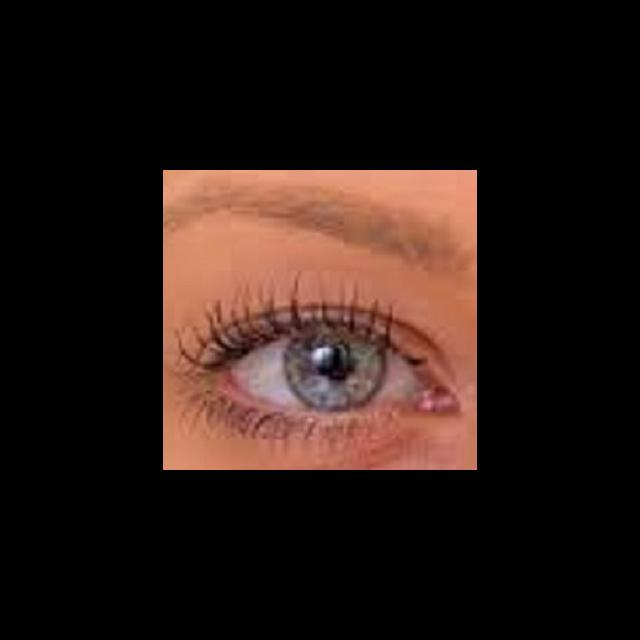eye: (222, 325, 430, 412)
iris: (283, 327, 385, 410)
